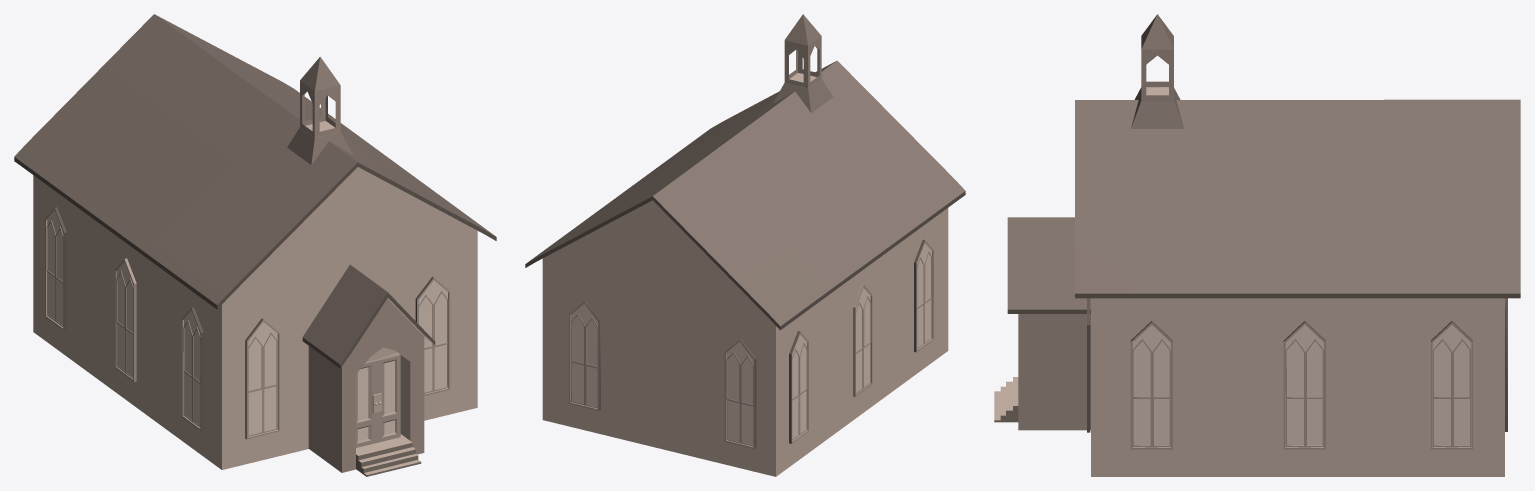
The model's file is CanaCamini2.fbx.
3 views of the same model, side by side, from view 1: azimuth 30°, elevation 25°; view 2: azimuth 150°, elevation 25°; view 3: azimuth 270°, elevation 25° (orthographic). The views are drawn at different scales.
Visible parts, largest first — view 1: Igreja; view 2: Igreja; view 3: Igreja.
Part boxes in pixels (x1,y1,x2,y2): Igreja: [14, 14, 496, 476]; Igreja: [525, 14, 965, 476]; Igreja: [994, 14, 1520, 476].
Bounding box in the file's own units: 678 × 835 × 1008.
